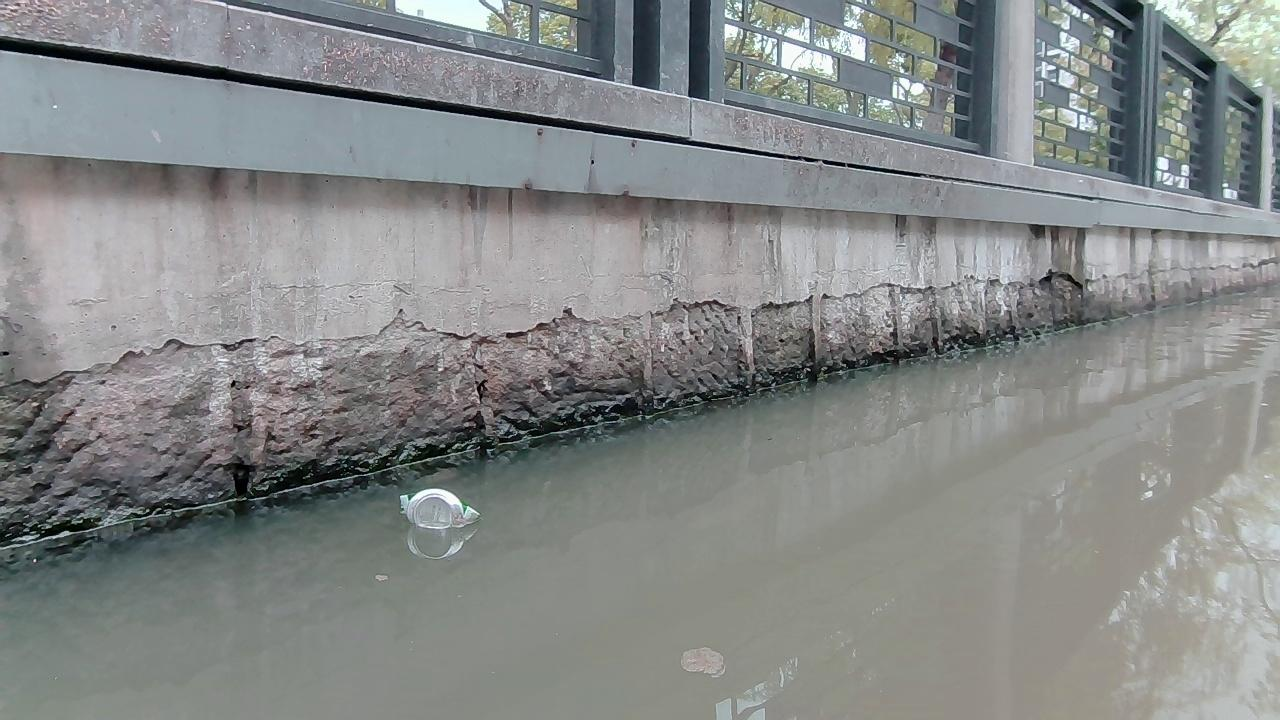Metal: (397, 487, 483, 530)
